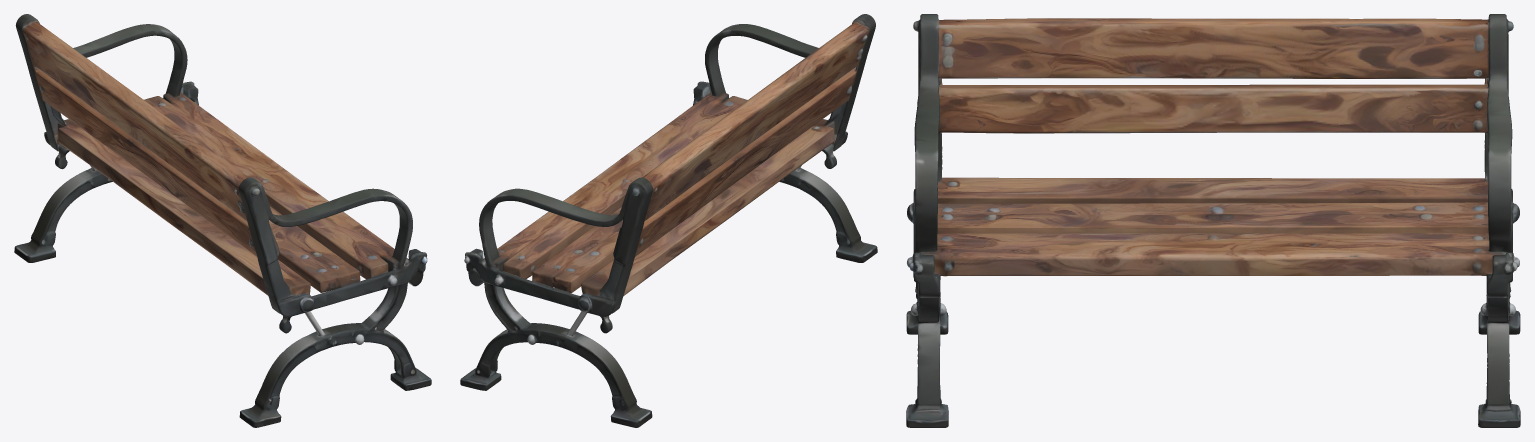
Rendered from plaza-bench-wood.glb.
3 views of the same model, side by side, from view 1: azimuth 30°, elevation 25°; view 2: azimuth 150°, elevation 25°; view 3: azimuth 270°, elevation 25° (orthographic). The views are drawn at different scales.
Parts seen in each view (by area): view 1: tripo_node_408ad1db-5ff3-4da9-9162-118e4572daa6; view 2: tripo_node_408ad1db-5ff3-4da9-9162-118e4572daa6; view 3: tripo_node_408ad1db-5ff3-4da9-9162-118e4572daa6.
Part boxes in pixels (left/top/right/bottom): tripo_node_408ad1db-5ff3-4da9-9162-118e4572daa6: left=14, top=14, right=431, bottom=427; tripo_node_408ad1db-5ff3-4da9-9162-118e4572daa6: left=460, top=14, right=877, bottom=427; tripo_node_408ad1db-5ff3-4da9-9162-118e4572daa6: left=906, top=14, right=1520, bottom=427.
Bounding box in the file's own units: 0.789 × 0.9999 × 1.82.
Materials: 1 (1 with a texture image).
